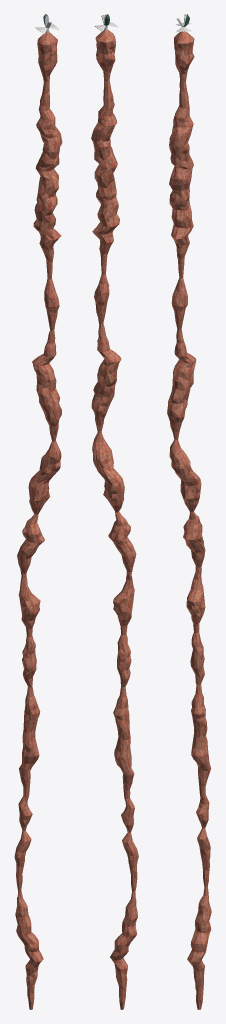
Rendered from serpent.fbx.
3 views of the same model, side by side, from view 1: azimuth 30°, elevation 25°; view 2: azimuth 210°, elevation 25°; view 3: azimuth 270°, elevation 25° (orthographic).
Parts seen in each view (by area): view 1: serpent, Cylinder.001; view 2: serpent; view 3: serpent.
Boxes of the visible parts, x1=… form: serpent: x1=14, y1=32, x2=62, y2=1009; Cylinder.001: x1=35, y1=15, x2=58, y2=33; serpent: x1=91, y1=30, x2=138, y2=1009; serpent: x1=167, y1=31, x2=211, y2=1009.
Bounding box in the file's own units: 3890 × 111913 × 4537.
